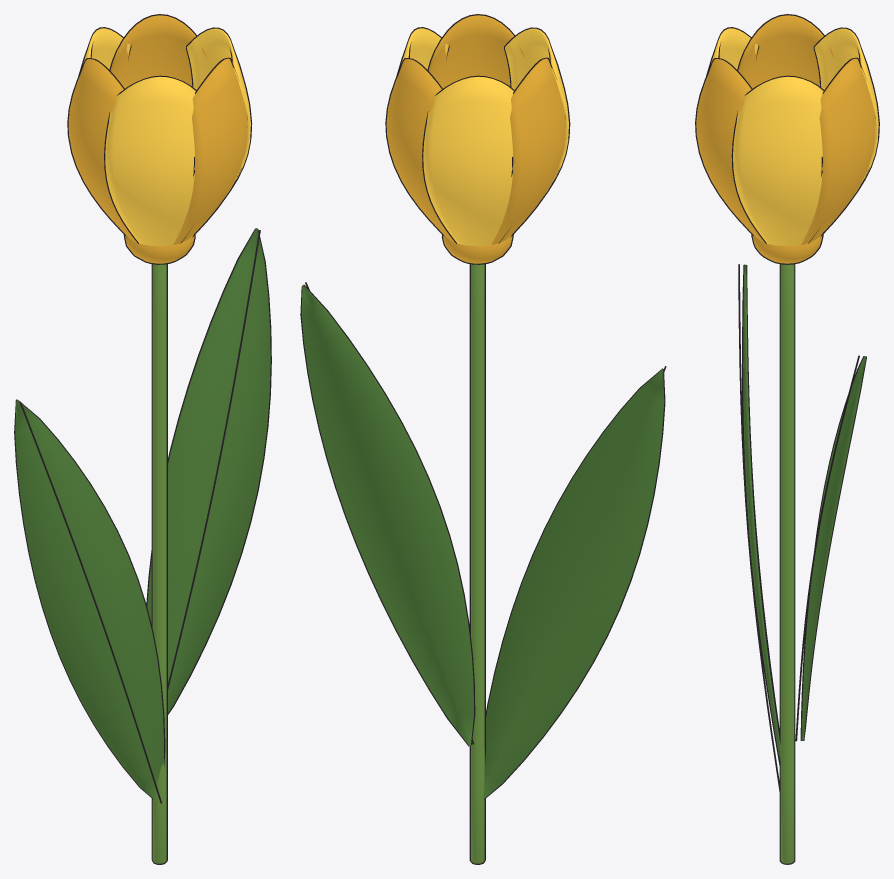
Rendered from tulip_yellow.glb.
The picture shows the model from 3 angles, left to right: view 1: azimuth 30°, elevation 25°; view 2: azimuth 150°, elevation 25°; view 3: azimuth 270°, elevation 25°; orthographic projection.
Visible parts, largest first — view 1: tulip_Geometry; view 2: tulip_Geometry; view 3: tulip_Geometry.
Part boxes in pixels (x1,y1,x2,y2): tulip_Geometry: (14, 14, 271, 864); tulip_Geometry: (300, 14, 666, 864); tulip_Geometry: (695, 14, 879, 864).
Bounding box in the file's own units: 0.2024 × 0.5152 × 0.1055.
